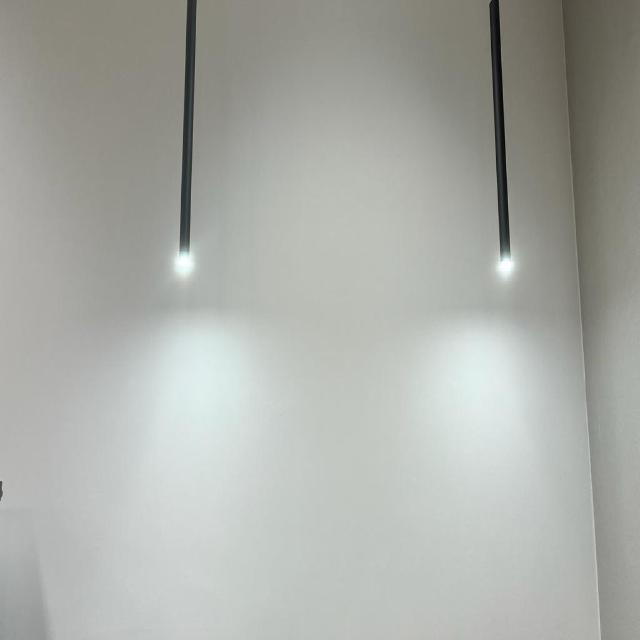Light-Opened: (169, 252, 198, 280), (497, 253, 518, 283)
